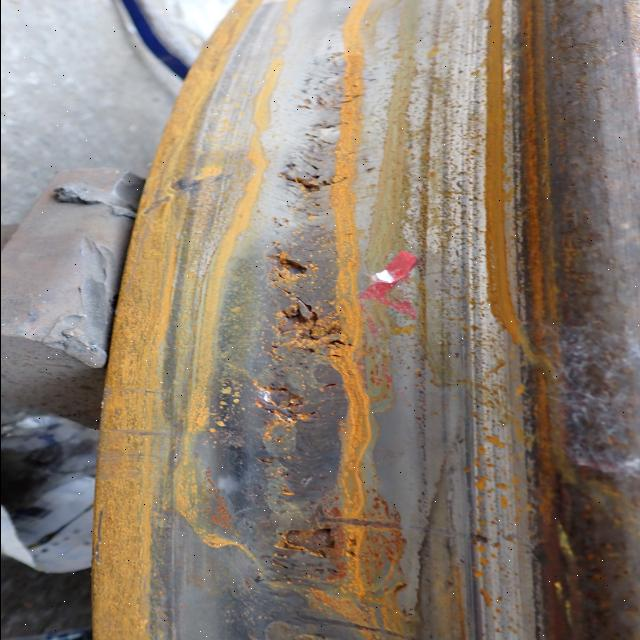boli: (276, 300, 350, 362), (272, 514, 352, 566), (274, 153, 340, 205), (250, 247, 320, 287)
